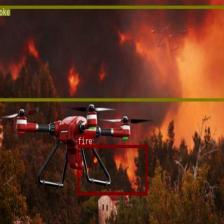fire: (77, 144, 147, 195)
smoke: (0, 5, 224, 101)
